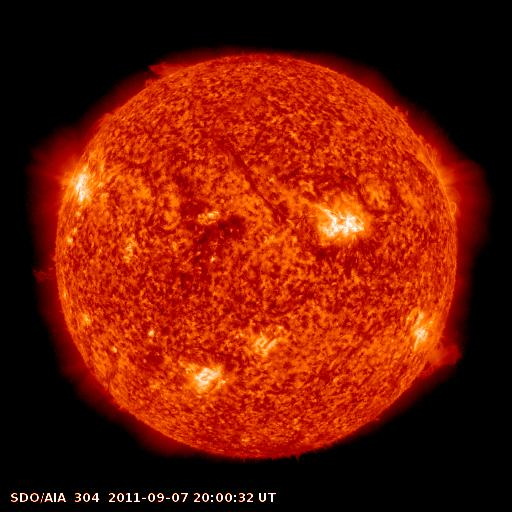prominence: (411, 328, 469, 389), (134, 54, 190, 98), (29, 261, 60, 286)
